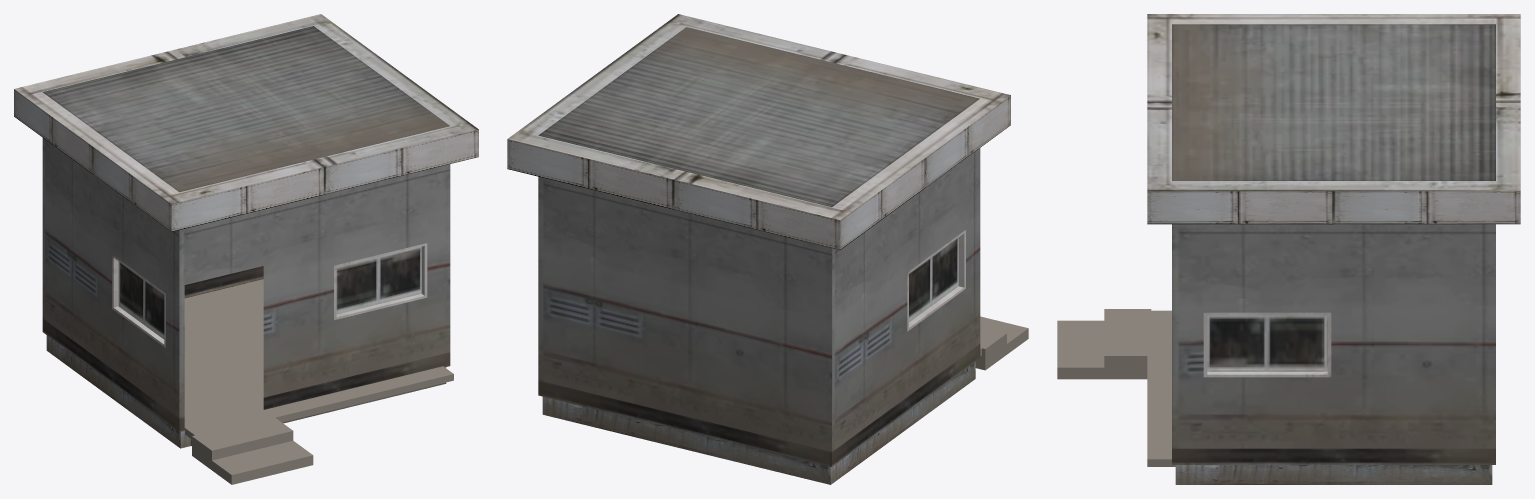
The model's file is ind-generic-2.walls-v2.lod0.glb.
The picture shows the model from 3 angles, left to right: view 1: azimuth 30°, elevation 25°; view 2: azimuth 150°, elevation 25°; view 3: azimuth 270°, elevation 25°; orthographic projection. The views are drawn at different scales.
Visible parts, largest first — view 1: Industrial_GenericBuilding_2_Industrial_Trim_FLR_1_Dif_0, Walkable floors and stairs; view 2: Industrial_GenericBuilding_2_Industrial_Trim_FLR_1_Dif_0, Walkable floors and stairs; view 3: Industrial_GenericBuilding_2_Industrial_Trim_FLR_1_Dif_0, Walkable floors and stairs.
Part boxes in pixels (x1,y1,x2,y2): Industrial_GenericBuilding_2_Industrial_Trim_FLR_1_Dif_0: (14, 14, 478, 448); Walkable floors and stairs: (184, 279, 453, 484); Industrial_GenericBuilding_2_Industrial_Trim_FLR_1_Dif_0: (507, 14, 1010, 484); Walkable floors and stairs: (975, 316, 1028, 370); Industrial_GenericBuilding_2_Industrial_Trim_FLR_1_Dif_0: (1147, 14, 1520, 484); Walkable floors and stairs: (1057, 309, 1175, 466).
Size of the model in its own units: 4.9 by 3.93 by 5.41.
Materials: 2 (1 with a texture image).
